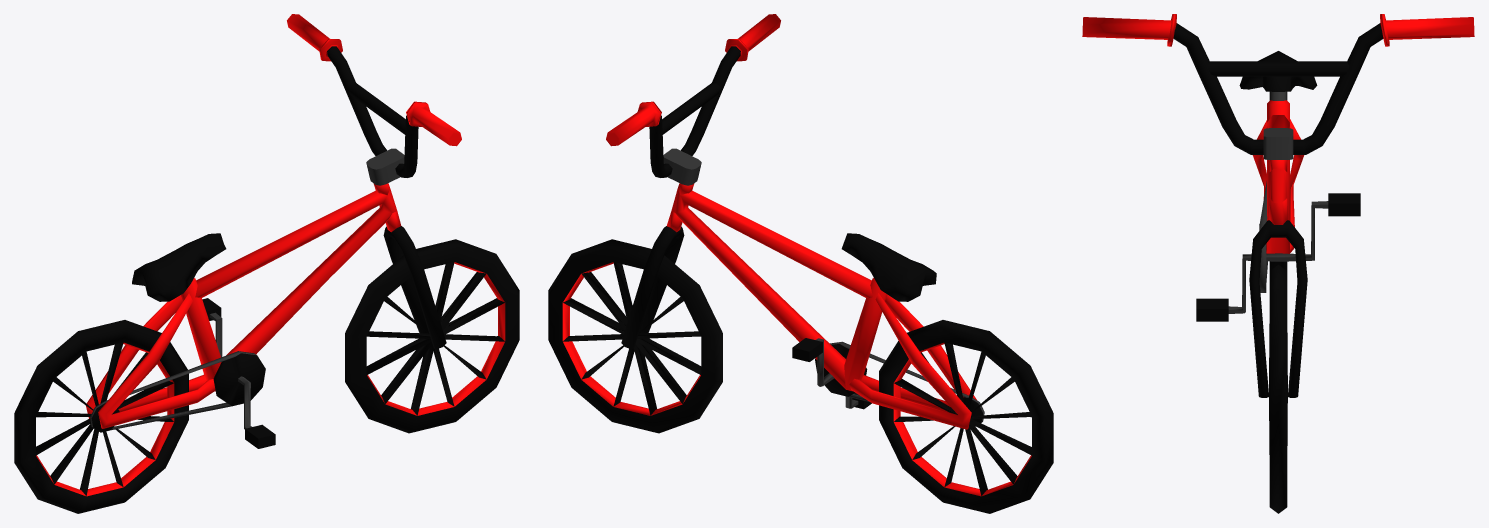
Rendered from BicycleBmxRed.glb.
3 renders of one model, left to right at view 1: azimuth 30°, elevation 25°; view 2: azimuth 150°, elevation 25°; view 3: azimuth 270°, elevation 25°, orthographic. The views are drawn at different scales.
Visible parts, largest first — view 1: BicycleBmxRed; view 2: BicycleBmxRed; view 3: BicycleBmxRed.
Part boxes in pixels (x1,y1,x2,y2): BicycleBmxRed: (14,14,519,513); BicycleBmxRed: (548,14,1053,513); BicycleBmxRed: (1082,14,1474,513).
Size of the model in its own units: 1.84 by 1.29 by 1.02.
Materials: 1 (1 with a texture image).
